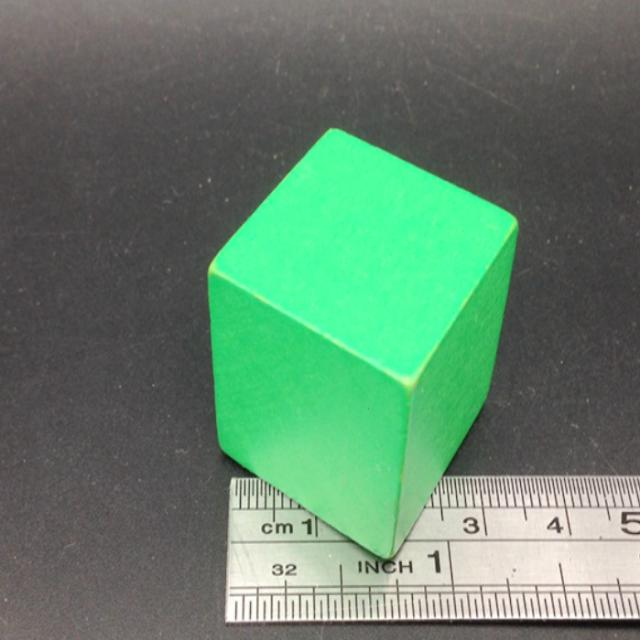green cube: (207, 123, 522, 564)
